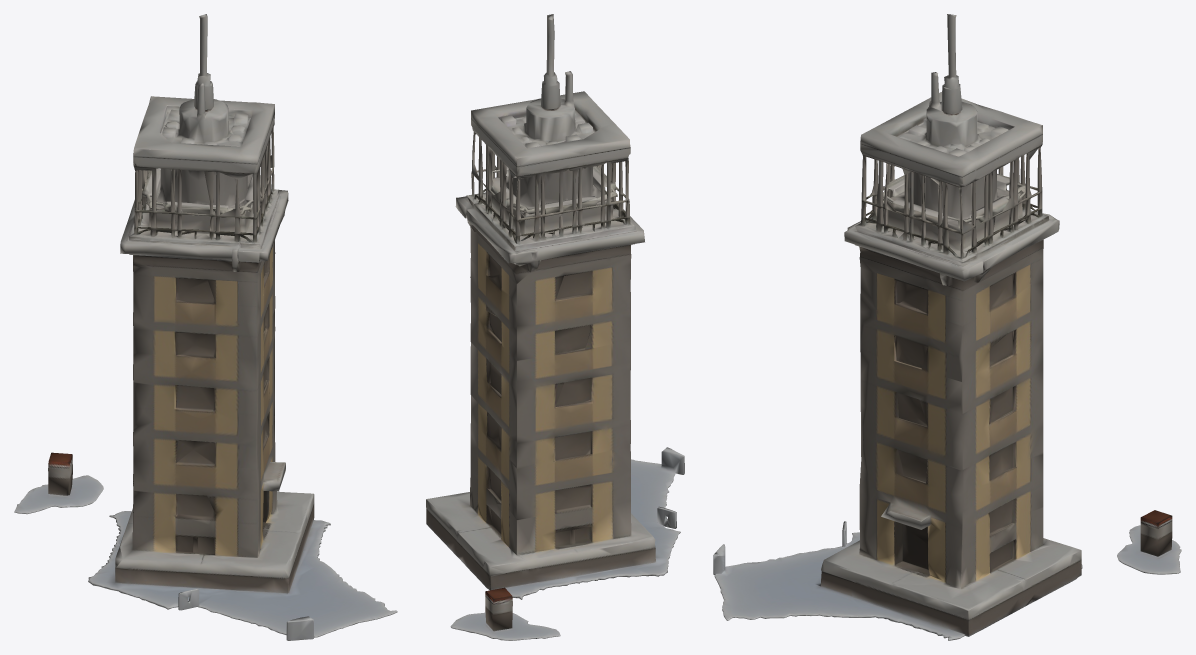
The model's file is tower.glb.
3 views of the same model, side by side, from view 1: azimuth 30°, elevation 25°; view 2: azimuth 150°, elevation 25°; view 3: azimuth 270°, elevation 25° (orthographic). The views are drawn at different scales.
Parts seen in each view (by area): view 1: tripo_node_32cf629e-80eb-4de9-a52b-68cc9449f236; view 2: tripo_node_32cf629e-80eb-4de9-a52b-68cc9449f236; view 3: tripo_node_32cf629e-80eb-4de9-a52b-68cc9449f236.
Part boxes in pixels (bbox=[...]): tripo_node_32cf629e-80eb-4de9-a52b-68cc9449f236: bbox=[14, 14, 397, 640]; tripo_node_32cf629e-80eb-4de9-a52b-68cc9449f236: bbox=[426, 14, 684, 640]; tripo_node_32cf629e-80eb-4de9-a52b-68cc9449f236: bbox=[713, 14, 1181, 640].
Bounding box in the file's own units: 0.4665 × 1 × 0.7533.
Materials: 1 (1 with a texture image).
